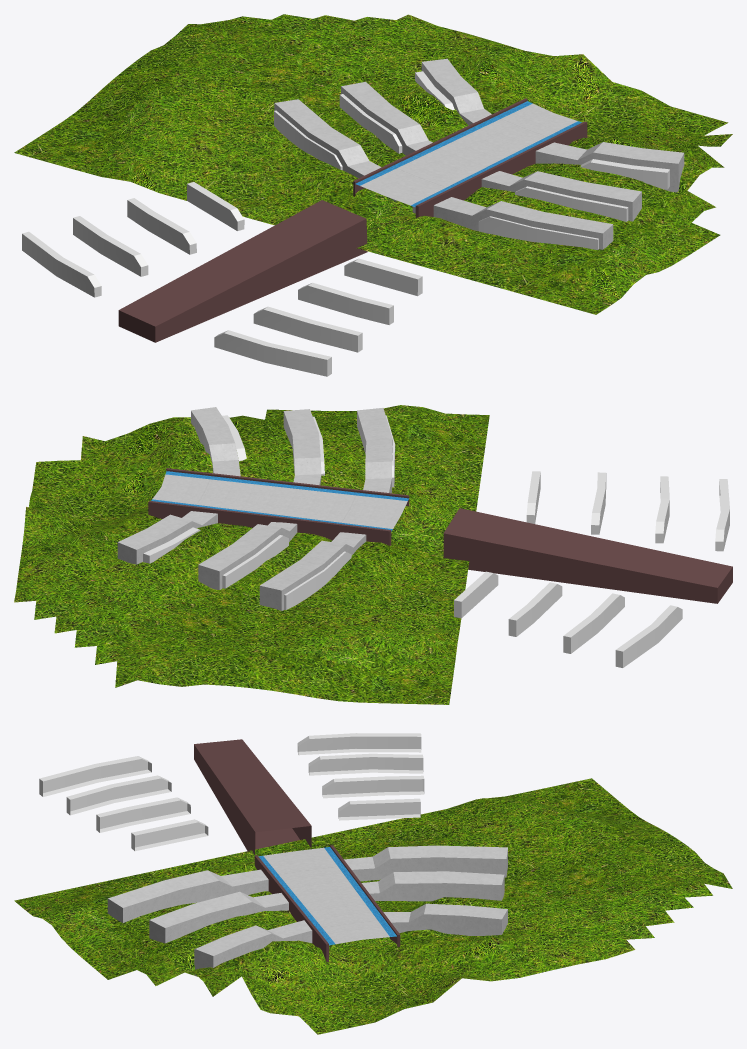
Rendered from WaterSide2.fbx.
The picture shows the model from 3 angles, top to bottom: view 1: azimuth 30°, elevation 25°; view 2: azimuth 150°, elevation 25°; view 3: azimuth 270°, elevation 25°; orthographic projection. The views are drawn at different scales.
Parts seen in each view (by area): view 1: Plane006, Box009, Glow, Box002, Object005, Object016; view 2: Plane006, Box002, Box009, Object005, Glow, Object016; view 3: Plane006, Box009, Glow, Object005, Box002.
Boxes of the visible parts, left/top/right/bottom form: Plane006: left=14, top=14, right=732, bottom=314; Box009: left=274, top=58, right=684, bottom=249; Glow: left=22, top=182, right=422, bottom=376; Box002: left=118, top=200, right=367, bottom=342; Object005: left=353, top=98, right=587, bottom=217; Object016: left=274, top=71, right=669, bottom=249; Plane006: left=14, top=405, right=489, bottom=704; Box002: left=443, top=508, right=732, bottom=603; Box009: left=117, top=407, right=392, bottom=610; Object005: left=148, top=468, right=409, bottom=545; Glow: left=454, top=471, right=729, bottom=667; Object016: left=143, top=415, right=395, bottom=609; Plane006: left=14, top=778, right=732, bottom=1034; Box009: left=107, top=845, right=507, bottom=976; Glow: left=39, top=733, right=424, bottom=851; Object005: left=254, top=845, right=400, bottom=961; Box002: left=194, top=739, right=311, bottom=854.
Size of the model in its own units: 28.83 by 2.45 by 29.7.
